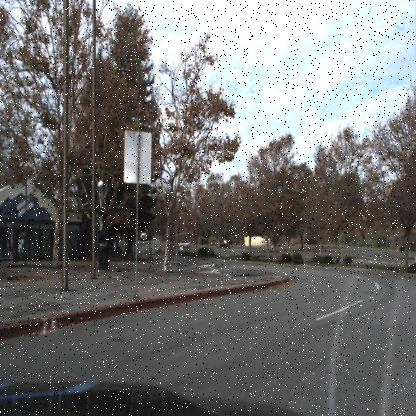car: (178, 238, 192, 250)
